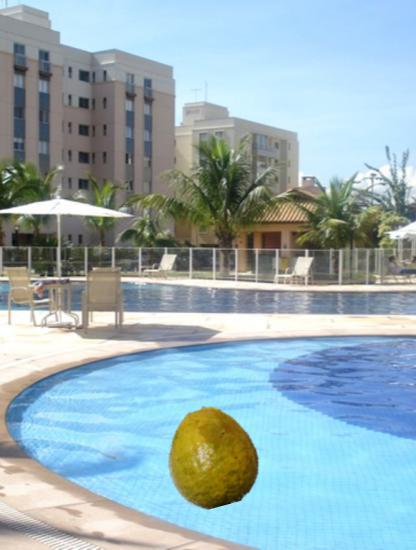Guava: (161, 406, 262, 507)
